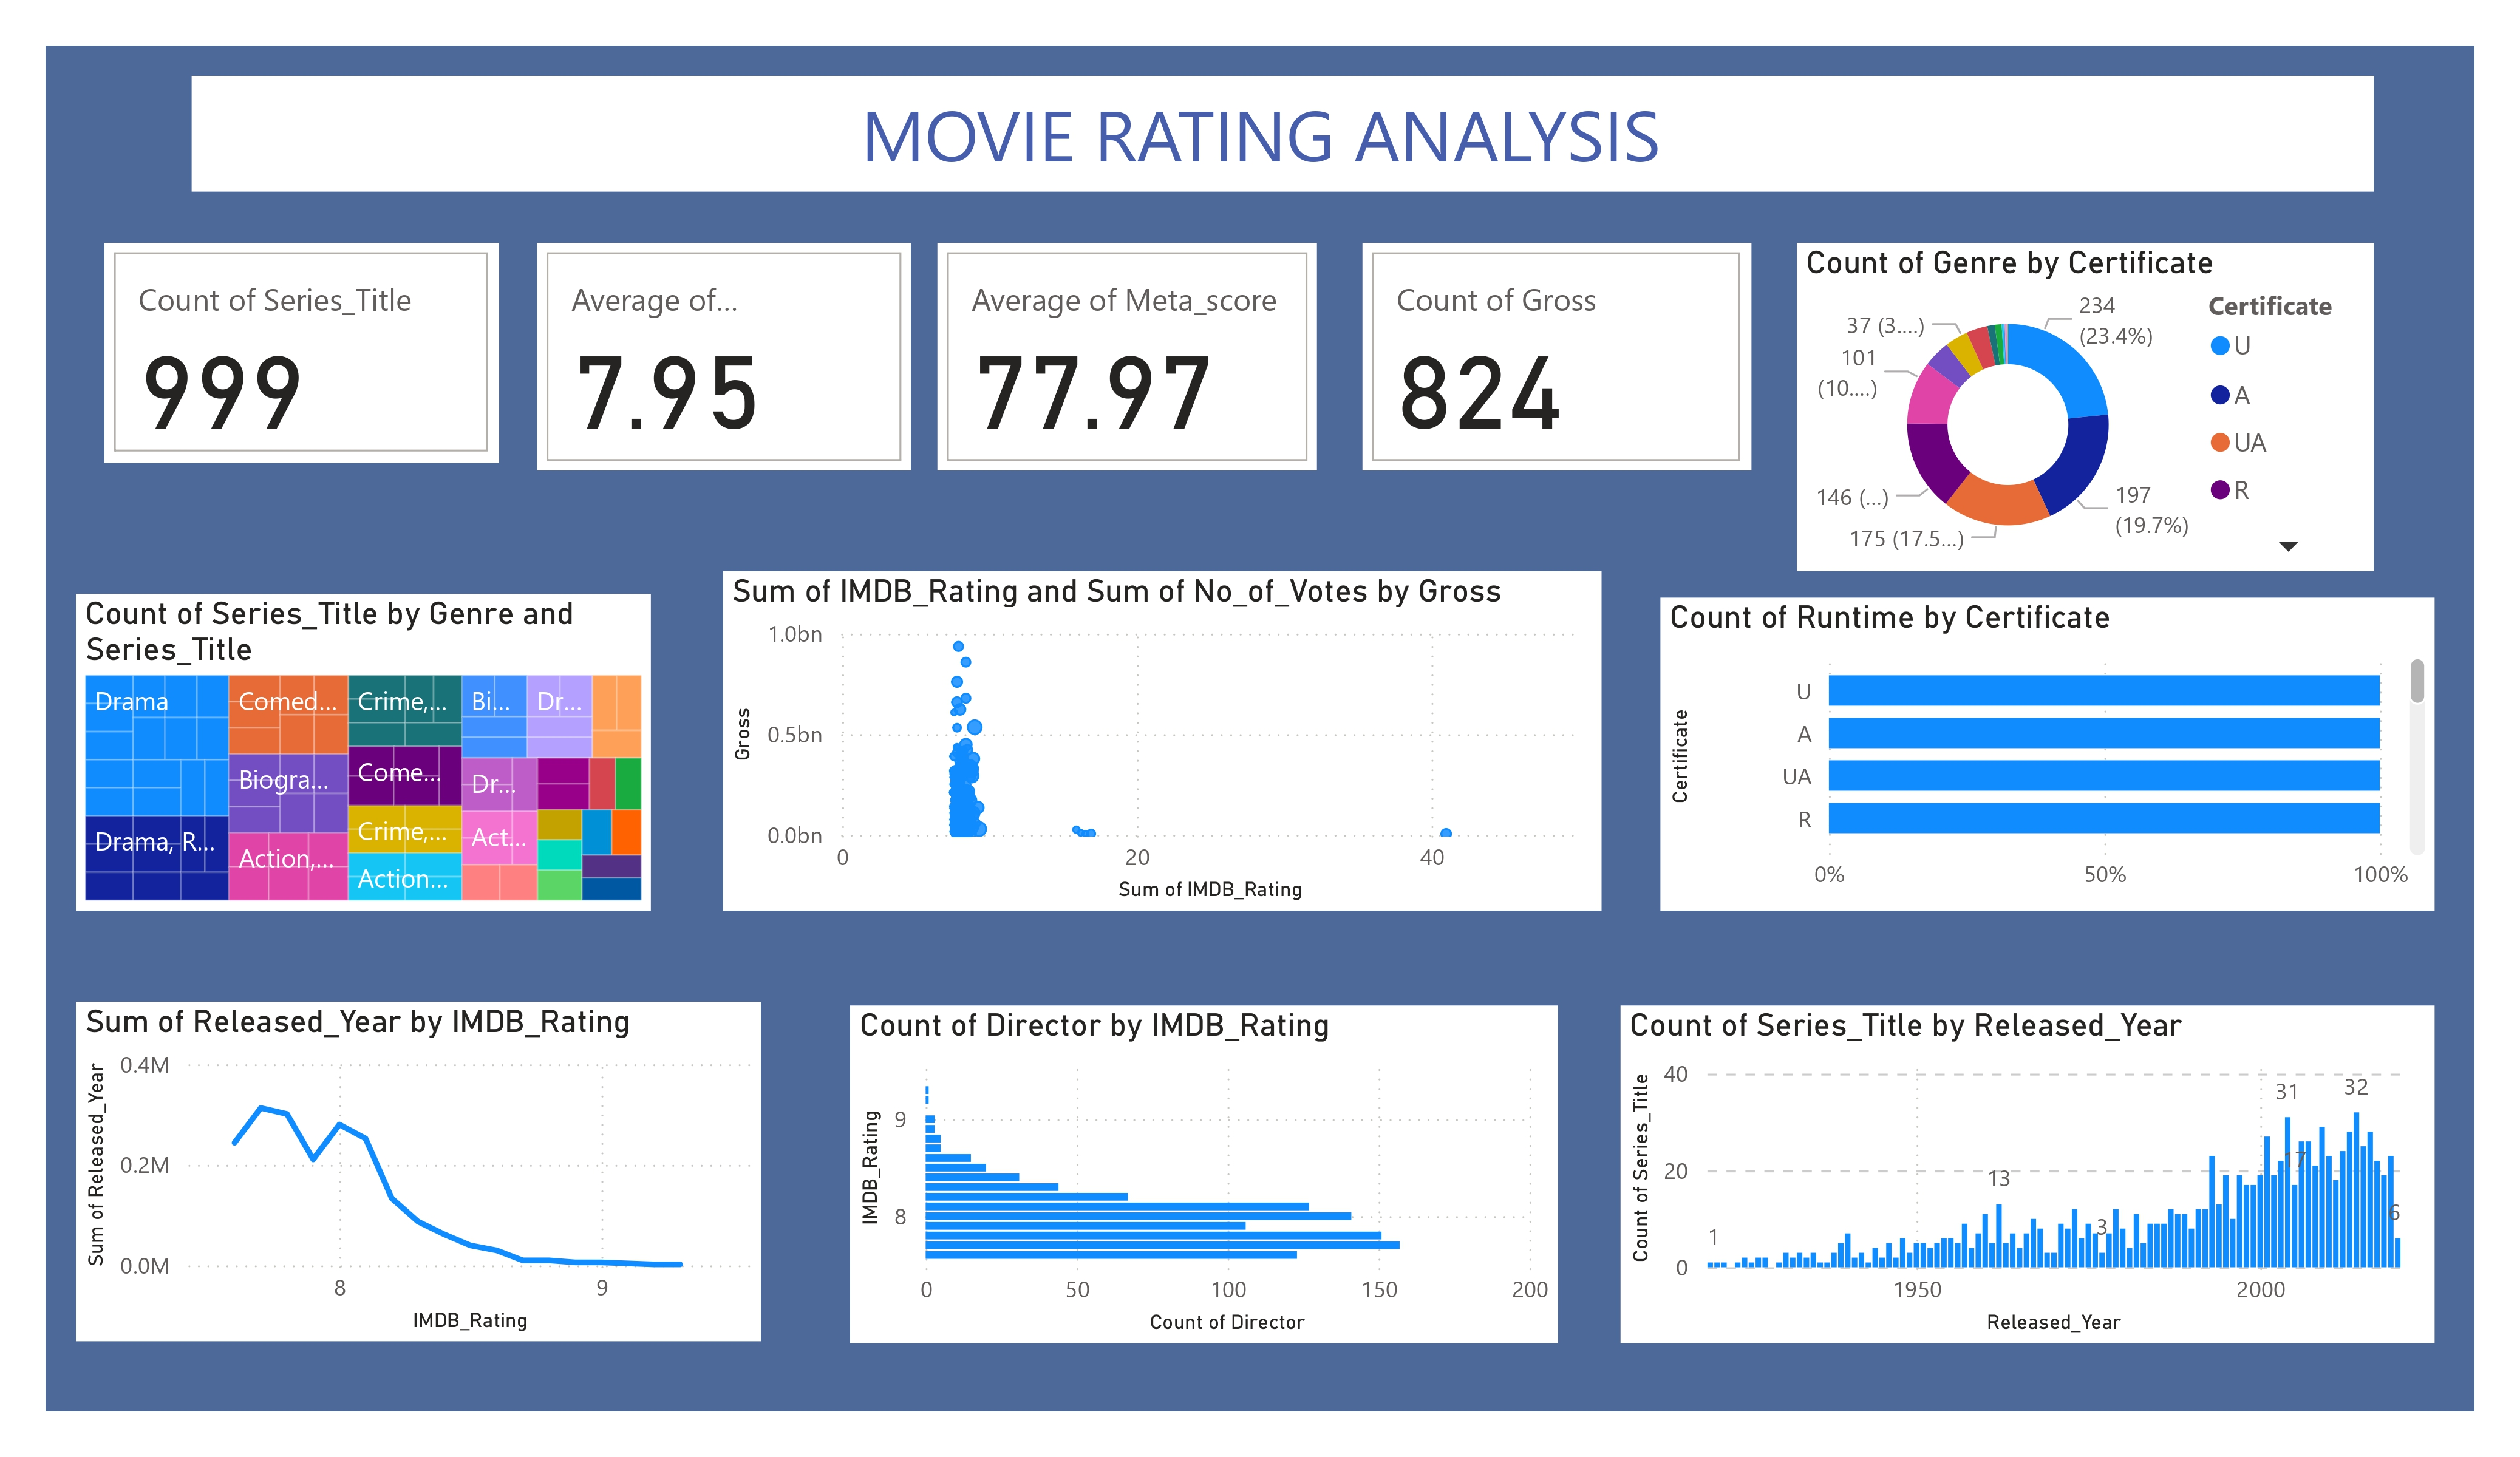

What the dashboard file says about the page in this screenshot:
{"tool":"powerbi","page":{"name":"Page 1","canvas":[1280,720],"ordinal":0},"visuals":[{"type":"cardVisual","fields":{"Data":["movieAnalysis.Series_Title"]},"box":[31.4,104.3,207.1,115.7],"z":0},{"type":"cardVisual","fields":{"Data":["movieAnalysis.IMDB_Rating"]},"box":[258.6,104.3,197.1,120],"z":1000},{"type":"cardVisual","fields":{"Data":["movieAnalysis.Meta_score"]},"box":[470,104.3,200,120],"z":2000},{"type":"cardVisual","fields":{"Data":["movieAnalysis.Gross"]},"box":[694.3,104.3,204.3,120],"z":3000},{"type":"barChart","fields":{"Category":["movieAnalysis.IMDB_Rating"],"Y":["movieAnalysis.Director"]},"box":[424.3,505.7,372.9,178.6],"z":4000},{"type":"donutChart","fields":{"Category":["movieAnalysis.Certificate"],"Y":["movieAnalysis.Genre"]},"box":[922.9,104.3,304.3,172.9],"z":5000},{"type":"clusteredColumnChart","fields":{"Category":["movieAnalysis.Released_Year"],"Y":["movieAnalysis.Series_Title"]},"box":[830,505.7,428.6,178.6],"z":6000},{"type":"scatterChart","fields":{"X":["movieAnalysis.IMDB_Rating"],"Size":["movieAnalysis.No_of_Votes"],"Y":["movieAnalysis.Gross"]},"box":[357.1,277.1,462.9,178.6],"z":7000},{"type":"treemap","fields":{"Group":["movieAnalysis.Genre"],"Values":["movieAnalysis.Series_Title"],"Details":["movieAnalysis.Series_Title"]},"box":[15.7,288.6,302.9,167.1],"z":8000},{"type":"hundredPercentStackedBarChart","fields":{"Category":["movieAnalysis.Certificate"],"Y":["movieAnalysis.Runtime"]},"box":[851.4,291.4,407.1,164.3],"z":9000},{"type":"lineChart","fields":{"Y":["movieAnalysis.Released_Year"],"Category":["movieAnalysis.IMDB_Rating"]},"box":[15.7,504.3,361.4,178.6],"z":10000},{"type":"textbox","box":[77.1,15.7,1150,61.4],"z":11000}]}

Visuals, with their boxes on the page's 1280x720 design canvas (x1, y1, x2, y2). These are canvas units, not pixel positions in the 2520x1457 screenshot, which may show the page scaled, cropped or inside an application window:
cardVisual - movieAnalysis.Series_Title: (x1=31, y1=104, x2=238, y2=220)
cardVisual - movieAnalysis.IMDB_Rating: (x1=259, y1=104, x2=456, y2=224)
cardVisual - movieAnalysis.Meta_score: (x1=470, y1=104, x2=670, y2=224)
cardVisual - movieAnalysis.Gross: (x1=694, y1=104, x2=899, y2=224)
barChart - movieAnalysis.IMDB_Rating x movieAnalysis.Director: (x1=424, y1=506, x2=797, y2=684)
donutChart - movieAnalysis.Certificate x movieAnalysis.Genre: (x1=923, y1=104, x2=1227, y2=277)
clusteredColumnChart - movieAnalysis.Released_Year x movieAnalysis.Series_Title: (x1=830, y1=506, x2=1259, y2=684)
scatterChart - movieAnalysis.IMDB_Rating x movieAnalysis.No_of_Votes: (x1=357, y1=277, x2=820, y2=456)
treemap - movieAnalysis.Genre x movieAnalysis.Series_Title: (x1=16, y1=289, x2=319, y2=456)
hundredPercentStackedBarChart - movieAnalysis.Certificate x movieAnalysis.Runtime: (x1=851, y1=291, x2=1258, y2=456)
lineChart - movieAnalysis.Released_Year x movieAnalysis.IMDB_Rating: (x1=16, y1=504, x2=377, y2=683)
textbox: (x1=77, y1=16, x2=1227, y2=77)
